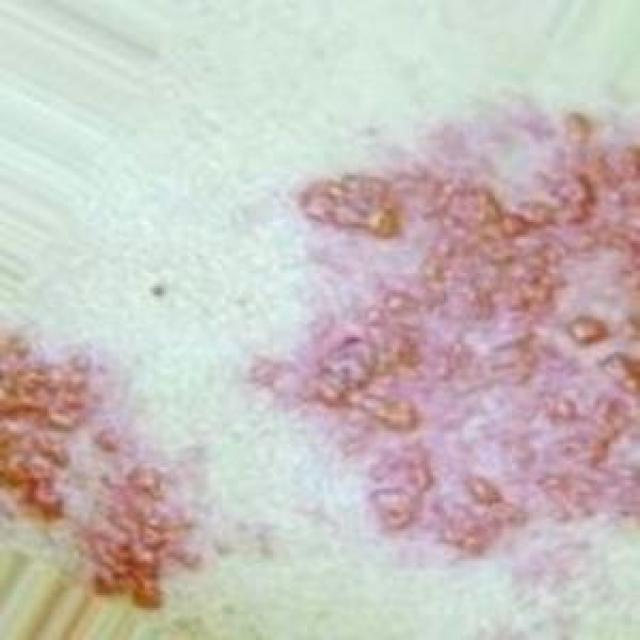Shingles: (251, 109, 640, 560), (0, 327, 206, 618)
